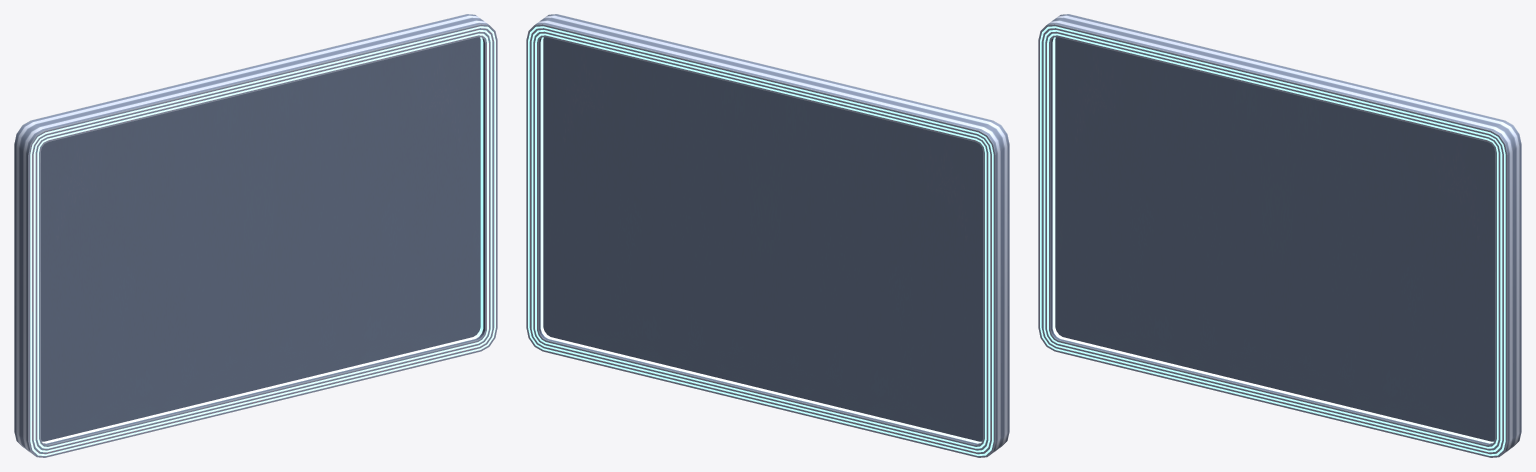
The model's file is obj_governance07.gltf.
3 views of the same model, side by side, from view 1: azimuth 30°, elevation 25°; view 2: azimuth 150°, elevation 25°; view 3: azimuth 330°, elevation 25° (orthographic).
Parts seen in each view (by area): view 1: obj_governance07; view 2: obj_governance07; view 3: obj_governance07.
Boxes of the visible parts, box(x1,y1,x2,y2) form: obj_governance07: box(14, 14, 497, 457); obj_governance07: box(526, 14, 1009, 457); obj_governance07: box(1038, 14, 1521, 457).
Size of what is drawn, in the model's own units: 3.17 by 2.11 by 0.1666.
Materials: 2 (1 with a texture image).
